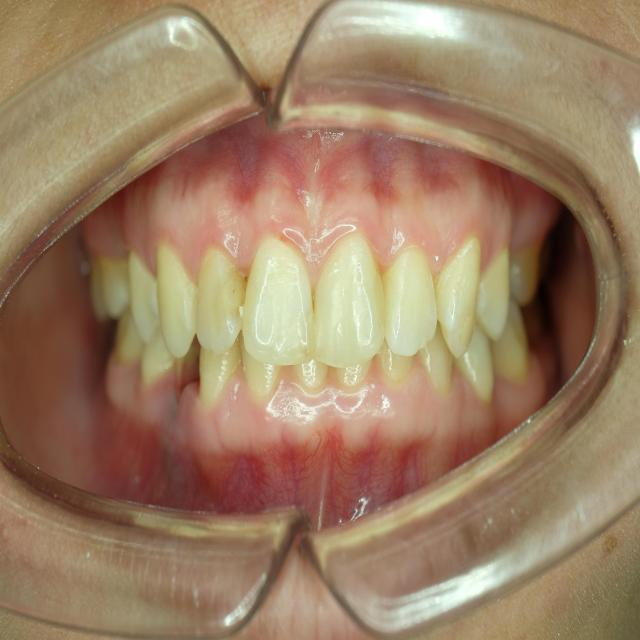tooth: (313, 236, 385, 369), (242, 237, 315, 366), (382, 248, 437, 356), (435, 237, 481, 359), (196, 250, 245, 355), (156, 238, 198, 358), (491, 297, 531, 384), (453, 321, 494, 404), (475, 247, 510, 342), (128, 248, 160, 344), (199, 335, 242, 402), (240, 330, 283, 396), (417, 320, 453, 395), (509, 233, 544, 307), (141, 322, 174, 385), (378, 338, 415, 381), (292, 355, 329, 387), (336, 357, 373, 386)
